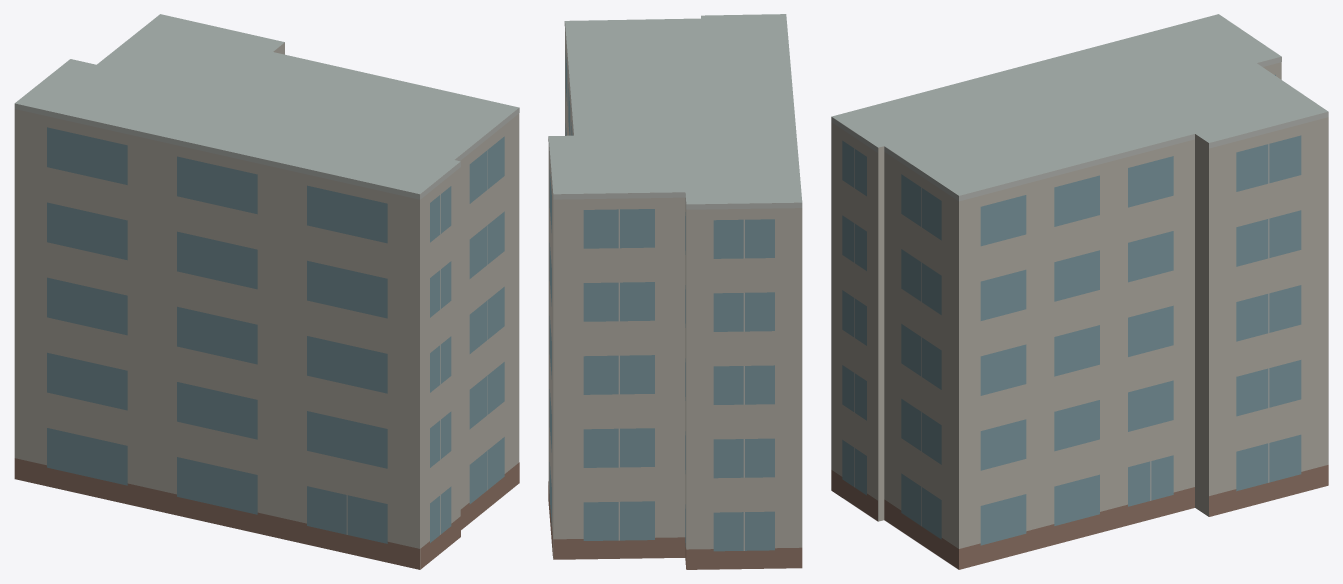
Rendered from survey-upis-32523825.glb.
3 renders of one model, left to right at view 1: azimuth 30°, elevation 25°; view 2: azimuth 150°, elevation 25°; view 3: azimuth 270°, elevation 25°, orthographic. The views are drawn at different scales.
Visible parts, largest first — view 1: survey-upis-32523825.tmp; view 2: survey-upis-32523825.tmp; view 3: survey-upis-32523825.tmp.
Part boxes in pixels (x1,y1,x2,y2): survey-upis-32523825.tmp: (14,14,519,569); survey-upis-32523825.tmp: (548,14,802,569); survey-upis-32523825.tmp: (831,14,1328,569).
Bounding box in the file's own units: 17.33 × 16.6 × 20.01.
